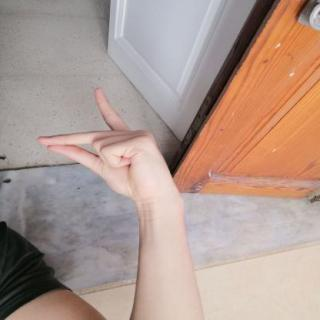TAA: (29, 80, 186, 205)
